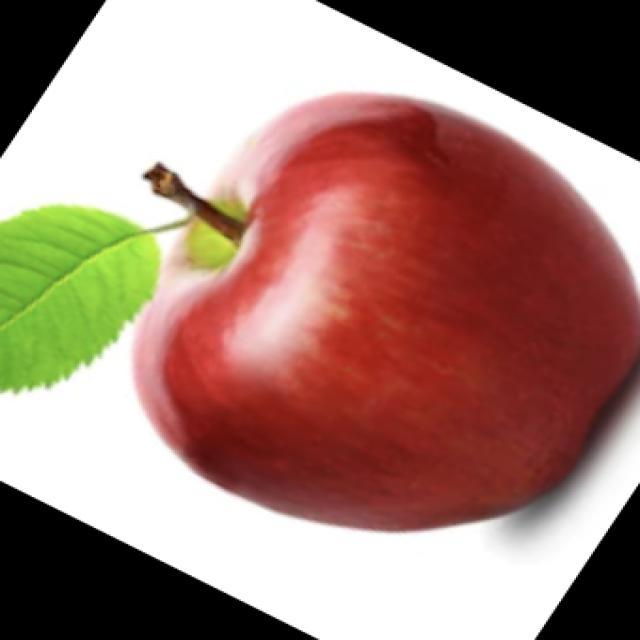Fresh Apple: (128, 80, 640, 536)
